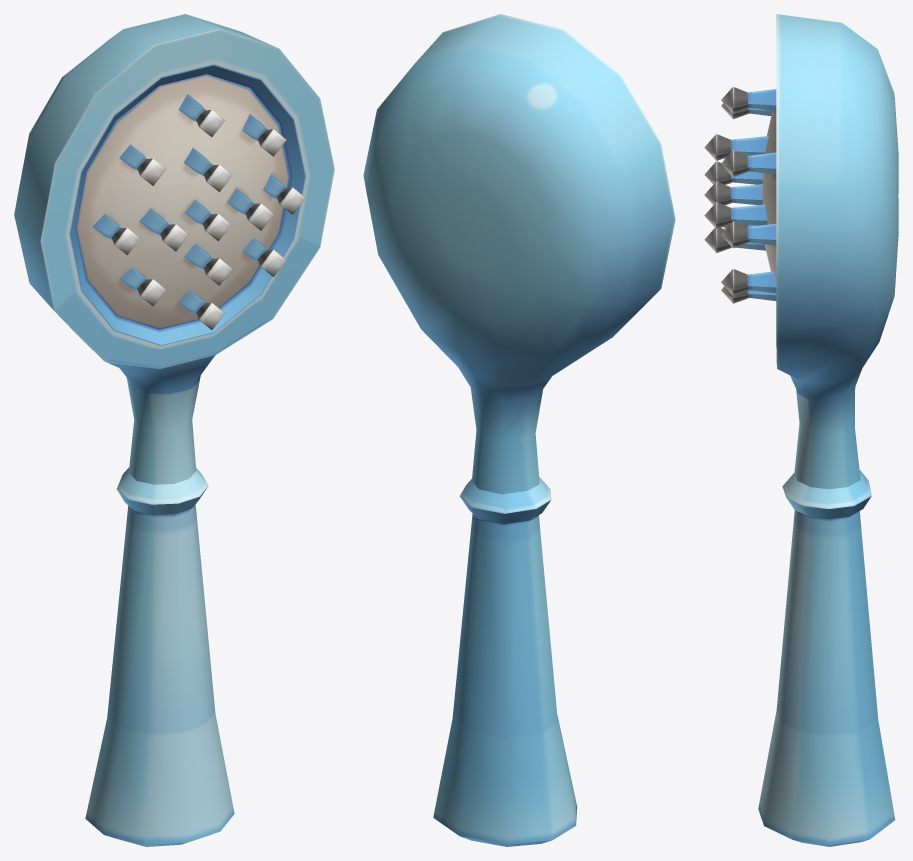
Rendered from bathroom_hairbrush_1.fbx.
3 views of the same model, side by side, from view 1: azimuth 30°, elevation 25°; view 2: azimuth 150°, elevation 25°; view 3: azimuth 270°, elevation 25° (orthographic). The views are drawn at different scales.
Parts seen in each view (by area): view 1: bathroom_hairbrush_1; view 2: bathroom_hairbrush_1; view 3: bathroom_hairbrush_1.
Part boxes in pixels (x1=…): bathroom_hairbrush_1: x1=14, y1=14, x2=334, y2=846; bathroom_hairbrush_1: x1=363, y1=14, x2=675, y2=846; bathroom_hairbrush_1: x1=704, y1=14, x2=898, y2=846.
Size of the model in its own units: 10.79 by 28.2 by 6.27.
